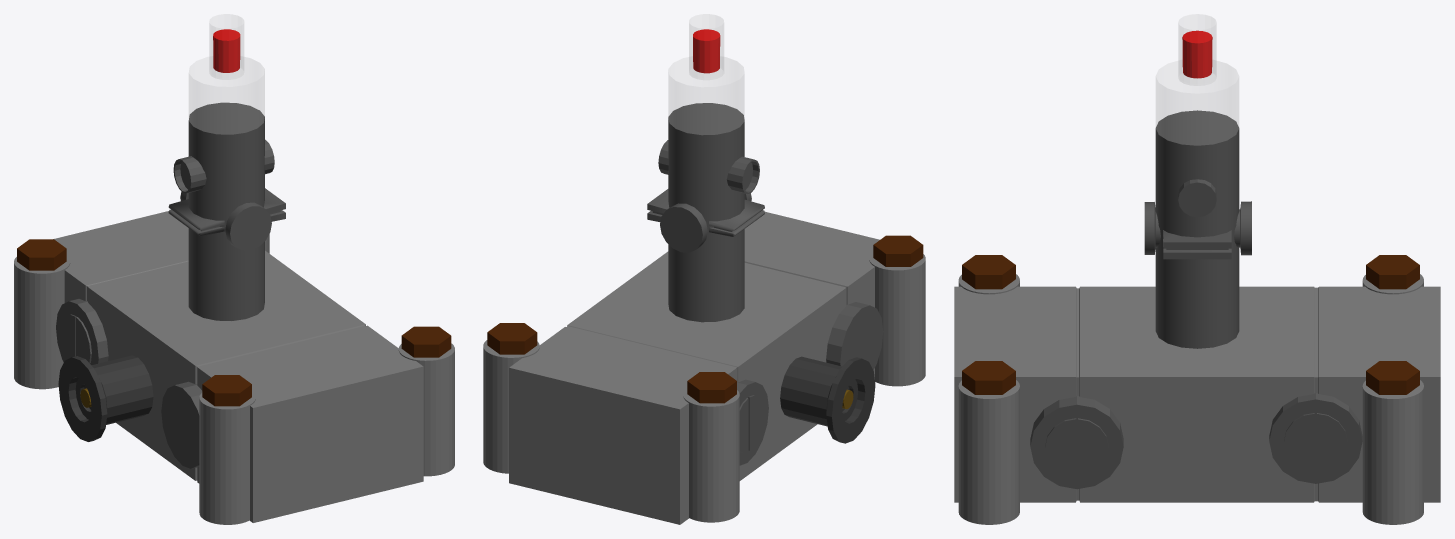
The model's file is пупупу.fbx.
3 renders of one model, left to right at view 1: azimuth 30°, elevation 25°; view 2: azimuth 150°, elevation 25°; view 3: azimuth 270°, elevation 25°, orthographic. The views are drawn at different scales.
Parts seen in each view (by area): view 1: Куб, Cylinder.006, Cylinder, Cylinder.001, Cylinder.008, Cylinder.003, Cylinder.005, Cylinder.004, Cylinder.007; view 2: Куб, Cylinder.006, Cylinder.001, Cylinder, Cylinder.008, Cylinder.002, Cylinder.005, Cylinder.007, Cylinder.004; view 3: Куб, Cylinder.006, Cylinder.002, Cylinder.003, Cylinder.005, Cylinder.004, Cylinder.007, Cylinder, Cylinder.001.
Boxes of the visible parts, x1,y1,x2,y2 form: Куб: (53, 211, 423, 522); Cylinder.006: (168, 56, 285, 320); Cylinder: (199, 375, 255, 524); Cylinder.001: (14, 239, 70, 389); Cylinder.008: (58, 355, 153, 441); Cylinder.003: (398, 326, 454, 476); Cylinder.005: (161, 381, 202, 468); Cylinder.004: (56, 299, 108, 365); Cylinder.007: (209, 14, 243, 79); Куб: (509, 211, 879, 524); Cylinder.006: (647, 56, 764, 322); Cylinder.001: (683, 372, 739, 522); Cylinder: (869, 235, 925, 386); Cylinder.008: (780, 356, 875, 443); Cylinder.002: (483, 323, 539, 473); Cylinder.005: (826, 302, 883, 369); Cylinder.007: (689, 14, 723, 79); Cylinder.004: (737, 379, 768, 465); Куб: (954, 286, 1440, 502); Cylinder.006: (1144, 60, 1251, 348); Cylinder.002: (1362, 361, 1423, 524); Cylinder.003: (958, 361, 1019, 524); Cylinder.005: (1030, 396, 1123, 489); Cylinder.004: (1269, 393, 1362, 483); Cylinder.007: (1178, 14, 1216, 85); Cylinder: (958, 255, 1019, 294); Cylinder.001: (1362, 255, 1423, 294).
Size of the model in its own units: 162 by 224 by 227.
